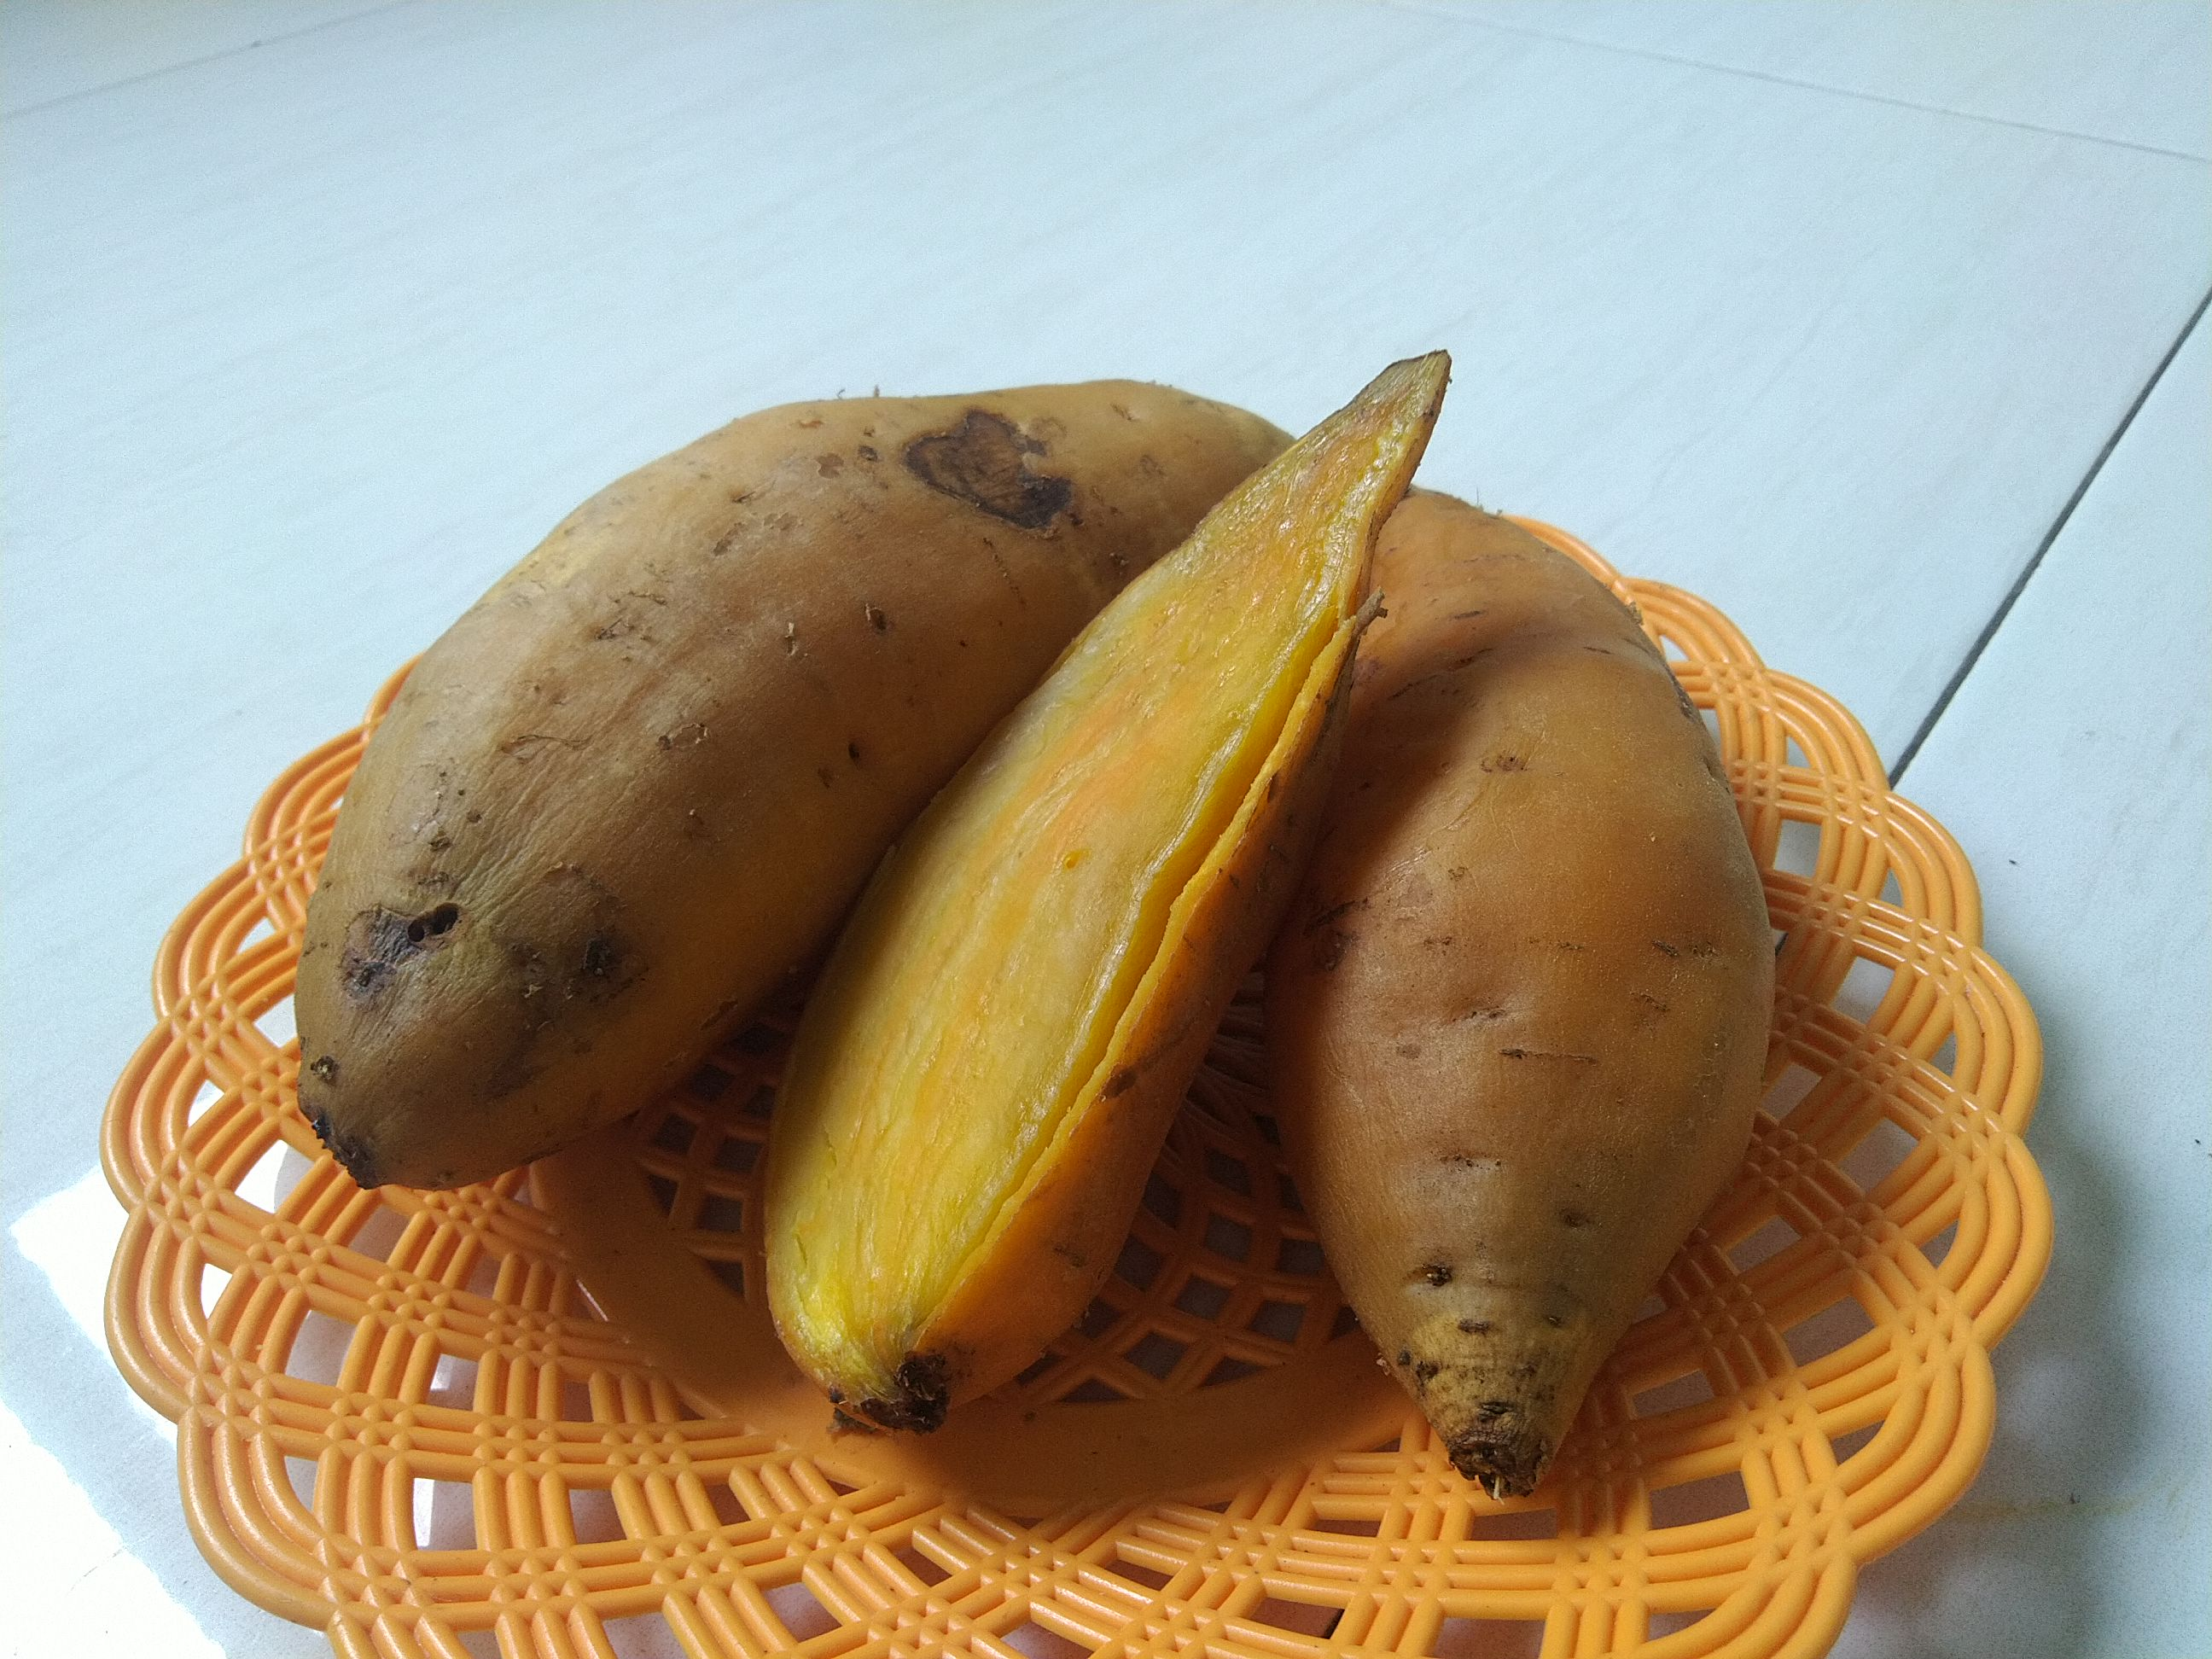ubi cilembu: (296, 343, 1308, 1209), (766, 328, 1463, 1457), (1259, 465, 1785, 1532)
